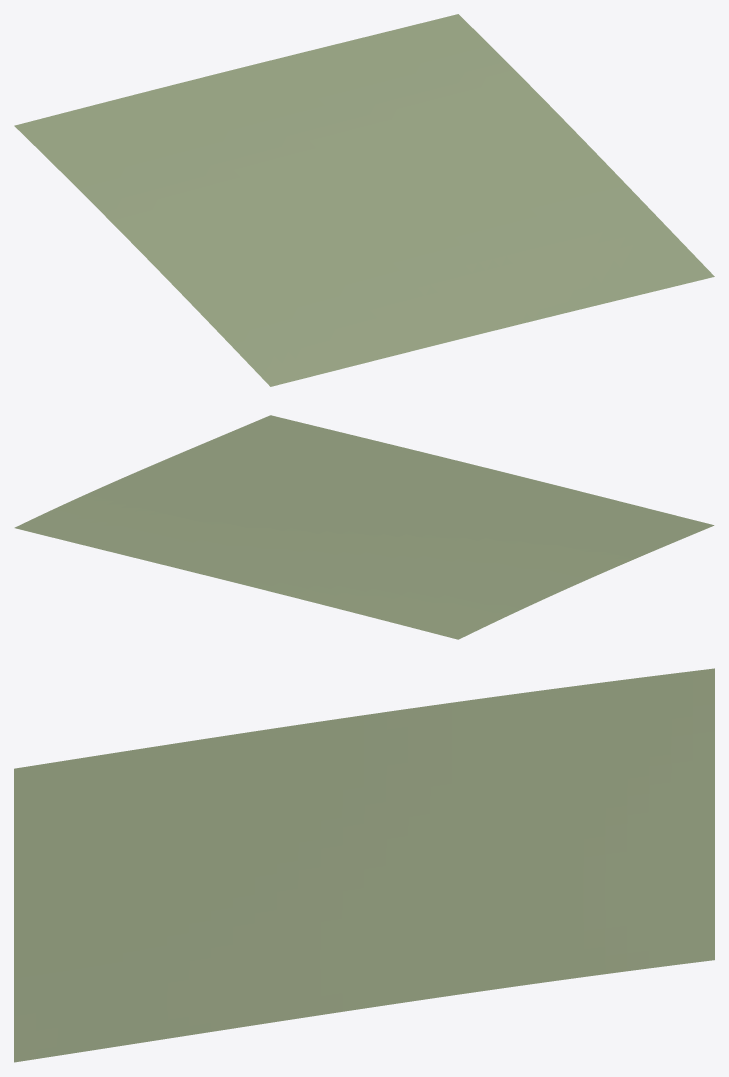
File: desert-29-10.glb
3 views of the same model, one above another, from view 1: azimuth 30°, elevation 25°; view 2: azimuth 150°, elevation 25°; view 3: azimuth 270°, elevation 25° (orthographic). The views are drawn at different scales.
Parts seen in each view (by area): view 1: desert-29-10; view 2: desert-29-10; view 3: desert-29-10.
Boxes of the visible parts, x1=… form: desert-29-10: x1=14, y1=14, x2=714, y2=386; desert-29-10: x1=14, y1=415, x2=714, y2=639; desert-29-10: x1=14, y1=668, x2=714, y2=1062.
Bounding box in the file's own units: 512 × 84.48 × 512.
